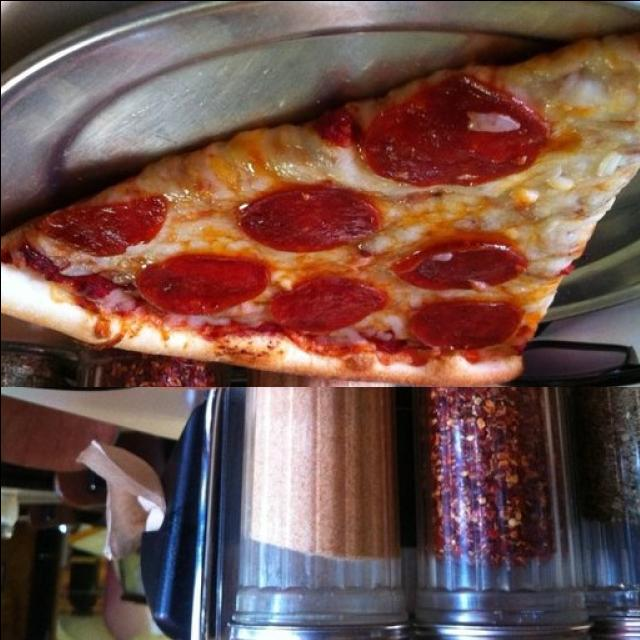pepperoni: (91, 73, 280, 184), (260, 186, 402, 251), (368, 253, 504, 317), (471, 193, 605, 255), (114, 238, 247, 290), (254, 277, 372, 332), (115, 298, 234, 352)
pizza: (0, 0, 640, 386)
